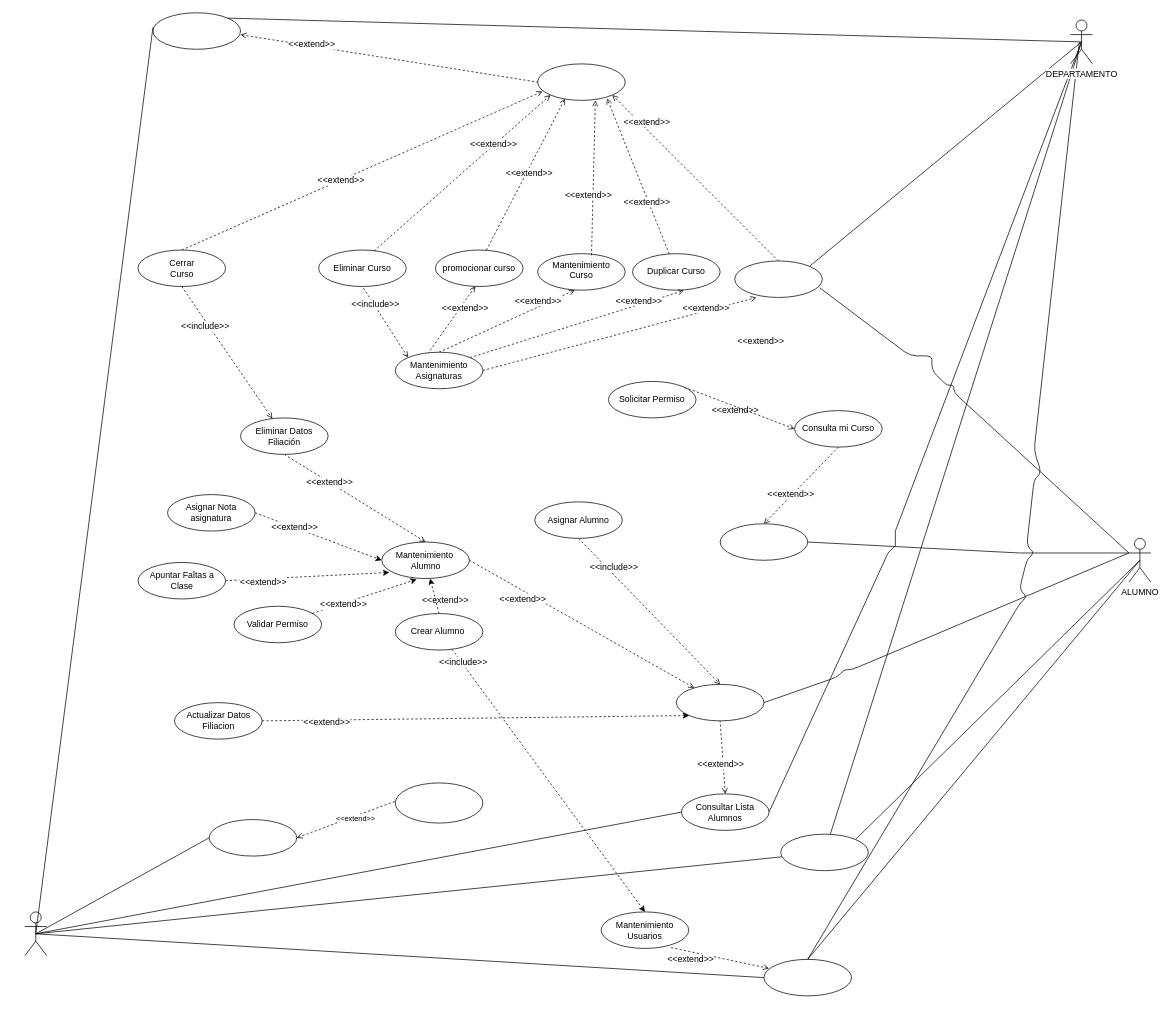
Some shapes in this 1171 by 1009 pixel diagram are drawn without their labels. Each missing label, with the centre of its shape:
"ACADEMIA" goes at (x=35, y=933).
"Autenticar Usuario" goes at (x=824, y=852).
"Consulta Mis Cursos" goes at (x=763, y=541).
"Consultar Alumno" goes at (x=720, y=702).
"Consultar Asignaturas" goes at (x=778, y=278).
"Consultar Curso" goes at (x=581, y=81).
"Consultar Lista Cursos" goes at (x=196, y=30).
"Consultar Lista de Usuarios" goes at (x=807, y=977).
"Consultar Lista Departamentos" goes at (x=252, y=837).
"Mantanimiento Departamento" goes at (x=439, y=802).
